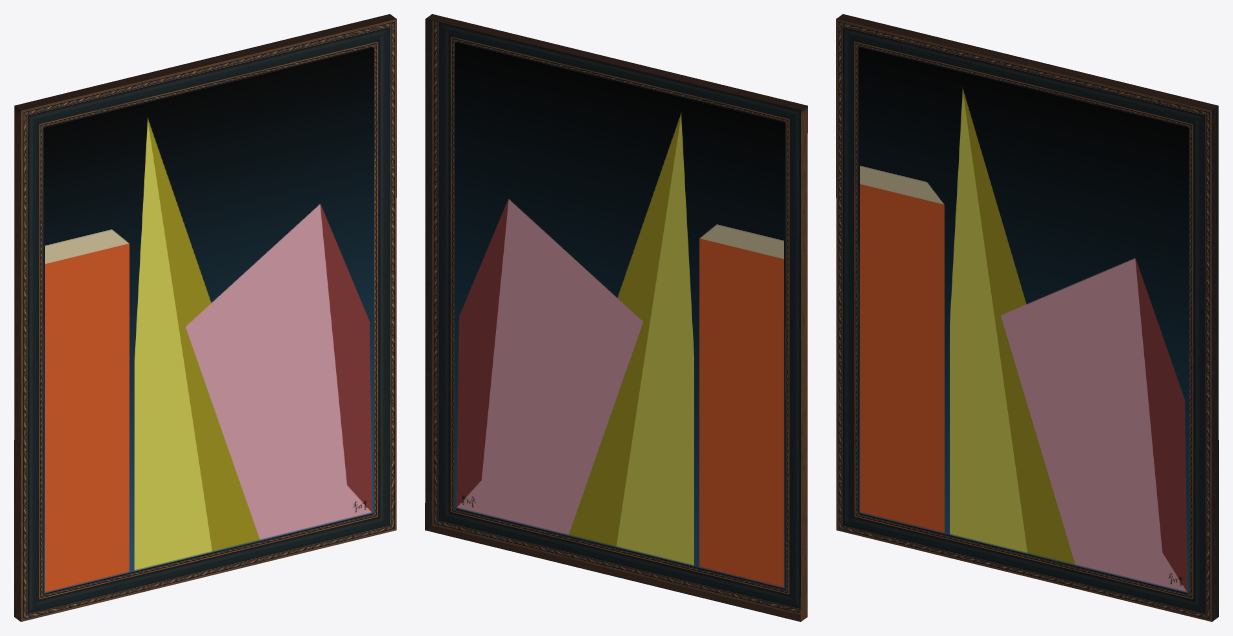
Rendered from Frame_av.fbx.
3 views of the same model, side by side, from view 1: azimuth 30°, elevation 25°; view 2: azimuth 150°, elevation 25°; view 3: azimuth 330°, elevation 25° (orthographic).
Parts seen in each view (by area): view 1: Frame_av; view 2: Frame_av; view 3: Frame_av.
Part boxes in pixels (x1,y1,x2,y2): Frame_av: [14, 14, 396, 621]; Frame_av: [425, 14, 807, 621]; Frame_av: [836, 14, 1218, 621].
Bounding box in the file's own units: 254 × 330 × 8.22.
